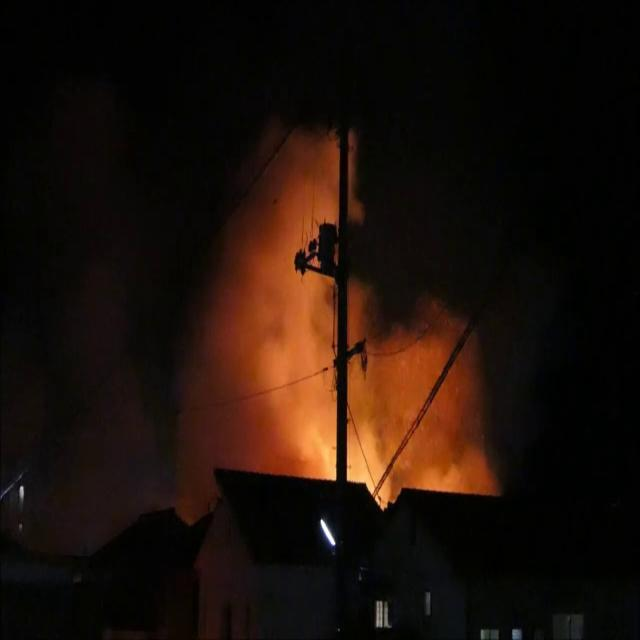Smoke: (163, 35, 524, 488)
